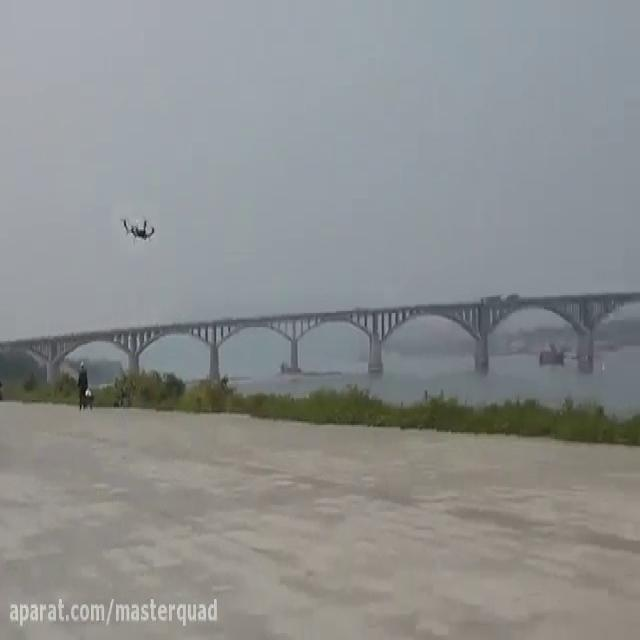drone: (118, 208, 157, 247)
